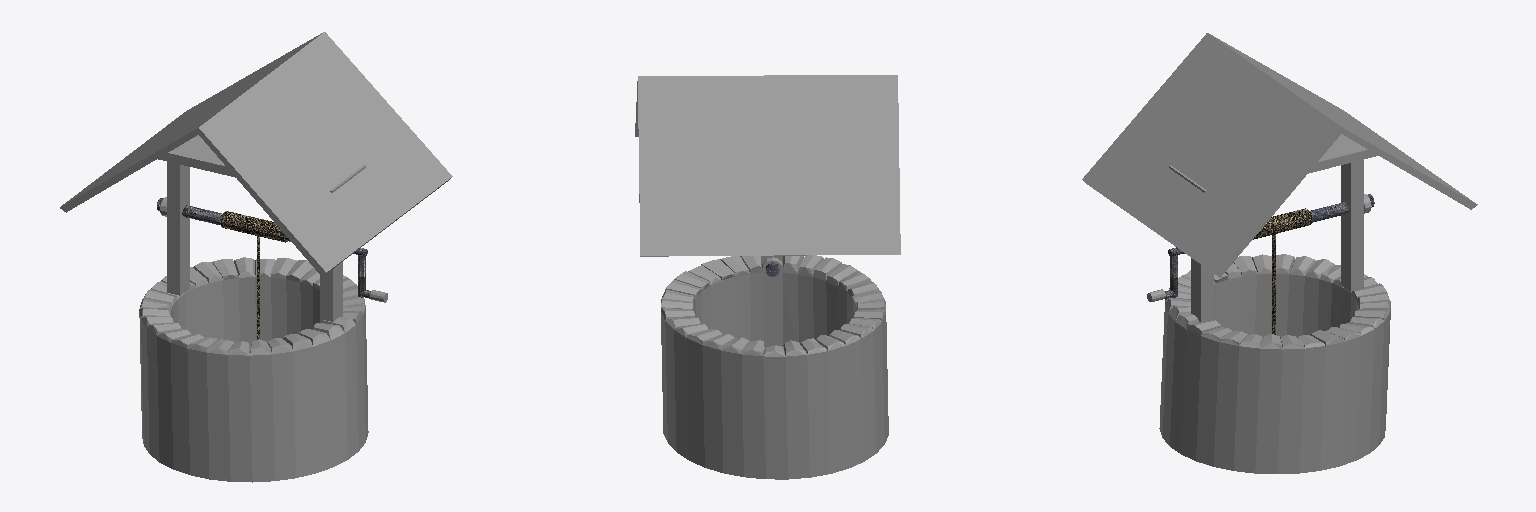
3 renders of one model, left to right at view 1: azimuth 30°, elevation 25°; view 2: azimuth 150°, elevation 25°; view 3: azimuth 270°, elevation 25°, orthographic.
Parts seen in each view (by area): view 1: Model_7; view 2: Model_7; view 3: Model_7.
Part boxes in pixels (bbox=[...]): Model_7: bbox=[60, 32, 452, 482]; Model_7: bbox=[635, 75, 900, 479]; Model_7: bbox=[1082, 33, 1477, 473].
Size of the model in its own units: 224 by 231 by 234.
4 materials, 2 textured.